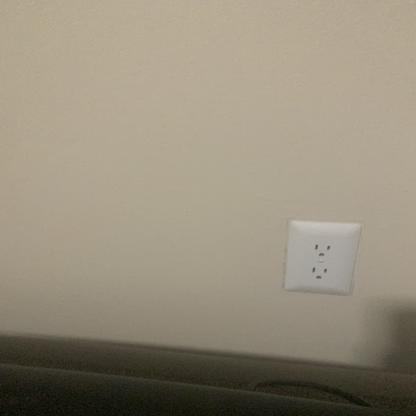OUTLET: (287, 221, 359, 296)
